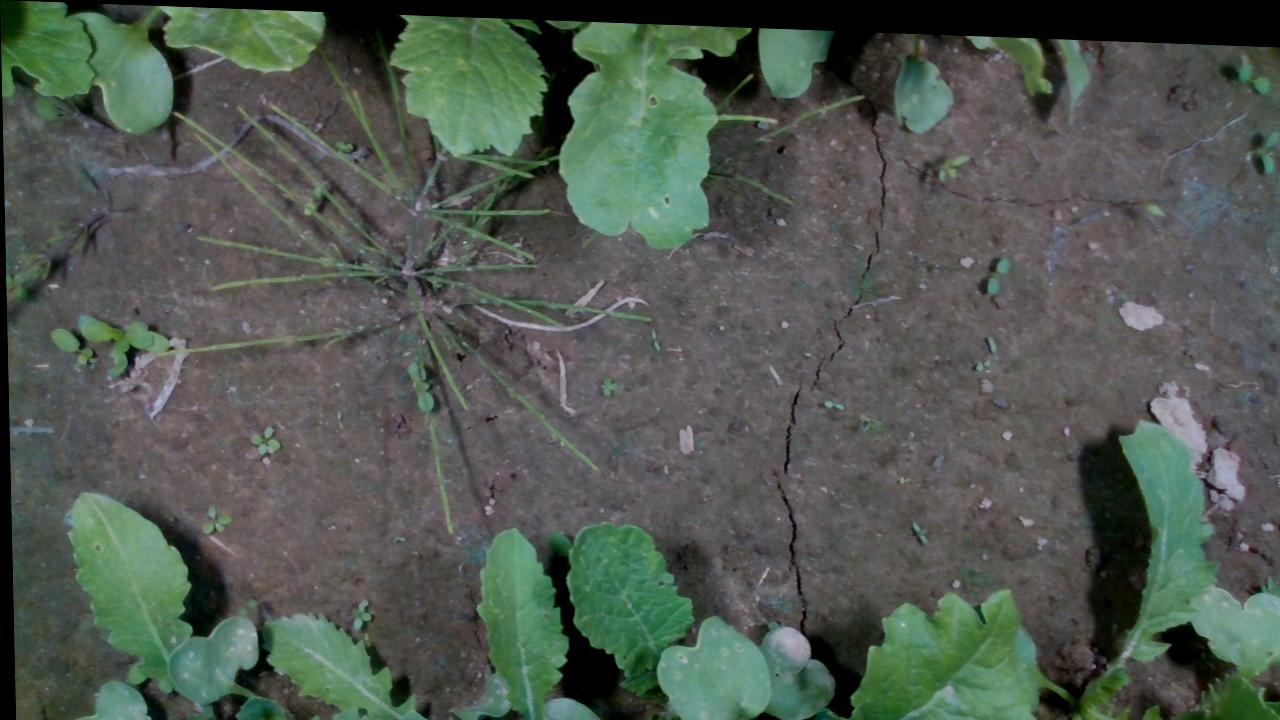weed: (245, 420, 280, 454), (983, 245, 1009, 288), (198, 500, 228, 532), (345, 594, 372, 629), (906, 512, 928, 539), (595, 369, 615, 393), (819, 392, 842, 404)
